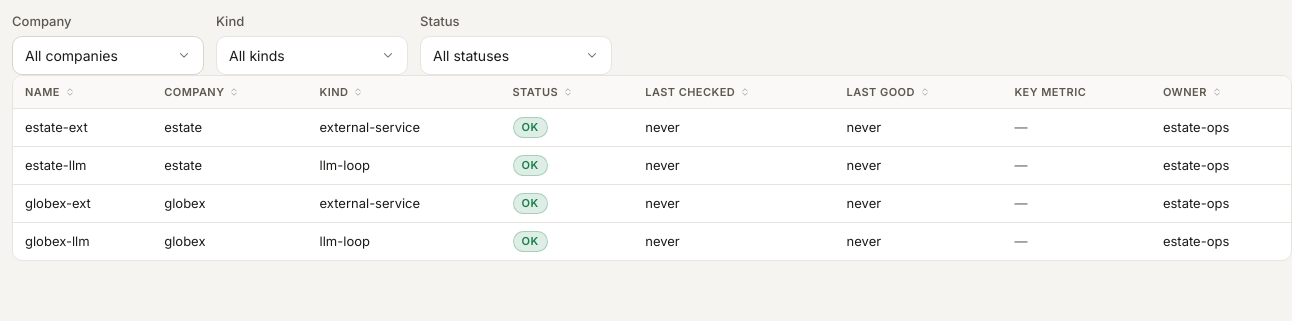
Test: HealthFilters composed with the table (company + kind narrow, and together) › filtering by kind alone narrows to that kind's rows
Click the button with aria-label "Filter by kind" at (312,55), box [216, 36, 408, 74]
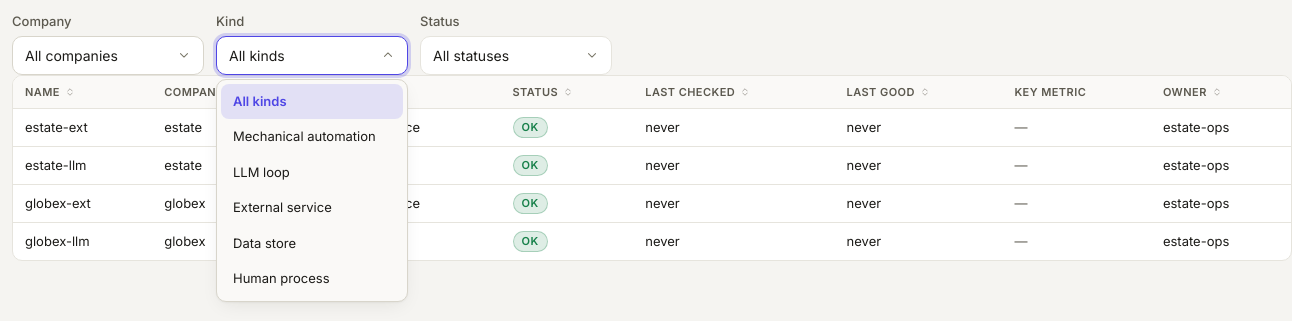
Click the option "LLM loop" at (261,172), box [233, 164, 290, 180]
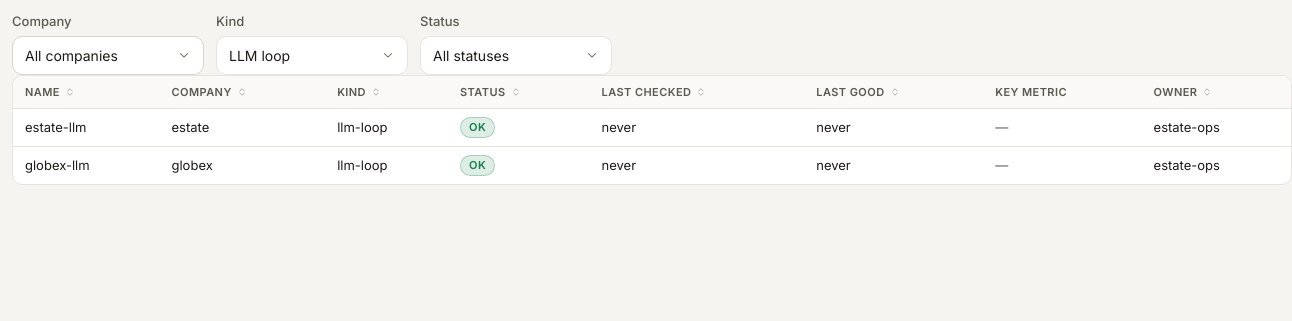
Check: the button "estate-llm" is shown, box [25, 118, 86, 137]
Check: the button "estate-ext" is gone
Check: the button "globex-ext" is gone
